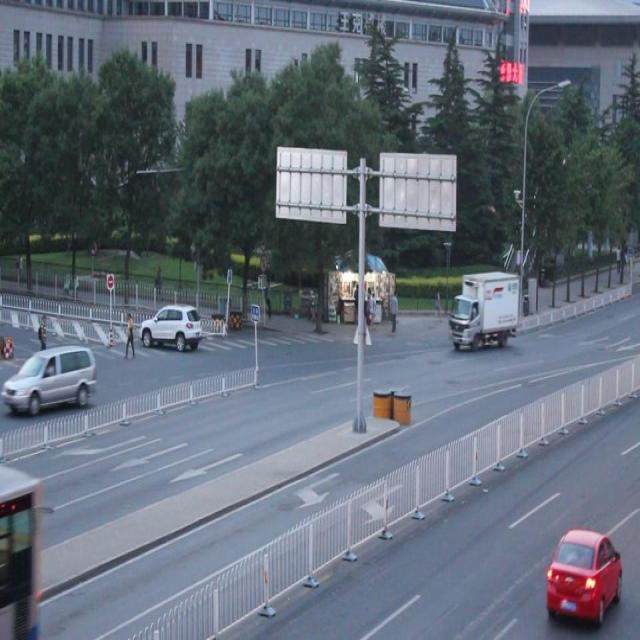bus: (450, 268, 518, 350)
car: (542, 526, 619, 620), (11, 346, 96, 411), (138, 302, 201, 350)
